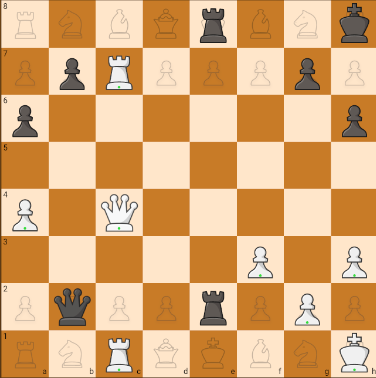bk: (331, 1, 375, 48)
bp: (3, 98, 45, 140), (288, 53, 326, 94), (336, 99, 373, 140), (55, 54, 91, 92)
bq: (51, 286, 95, 328)
br: (192, 284, 233, 328), (192, 3, 233, 45)
wk: (334, 331, 376, 377)
wp: (4, 190, 44, 234), (242, 237, 277, 281), (291, 287, 323, 328), (337, 241, 370, 280)
wq: (97, 191, 143, 235)
wr: (100, 333, 138, 376), (98, 53, 137, 93)
